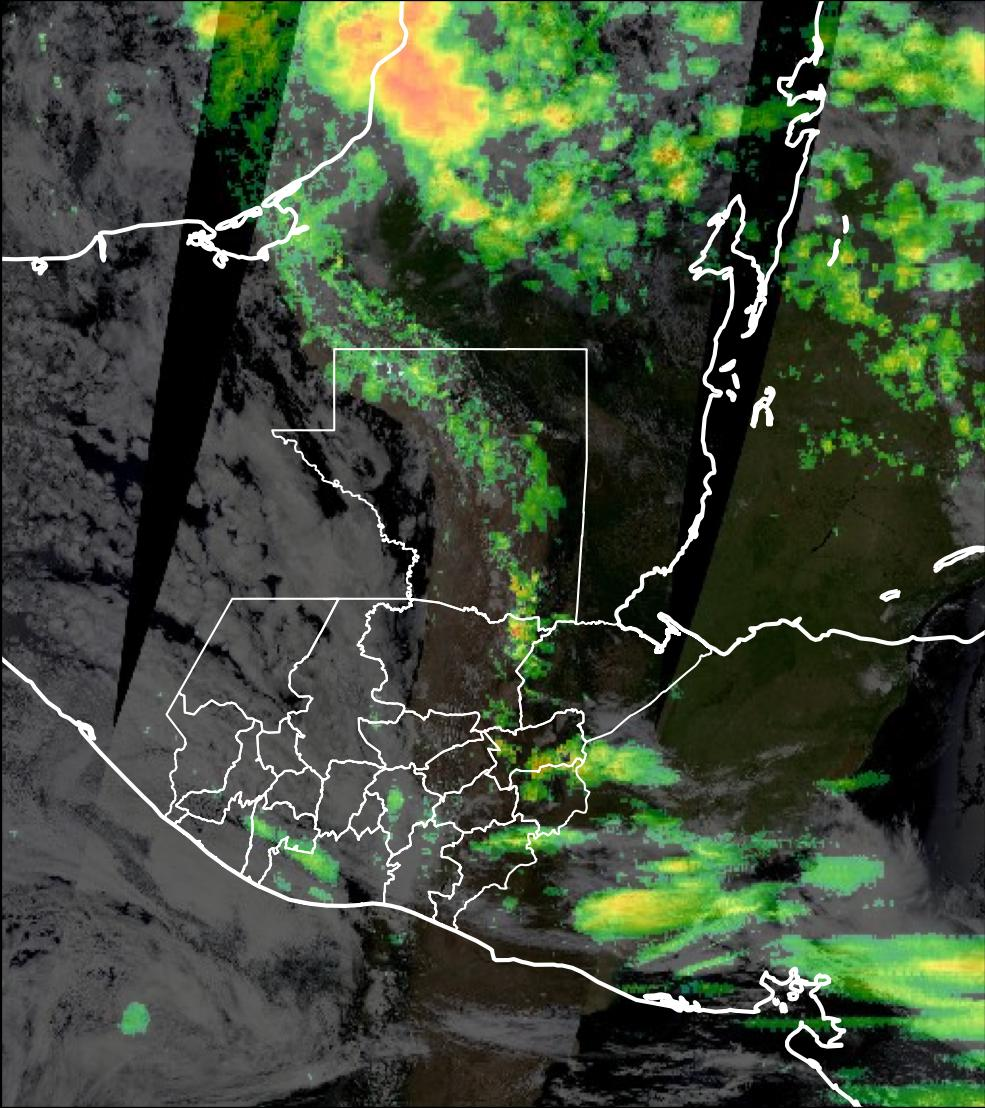precipitacion: (332, 1, 487, 163)
